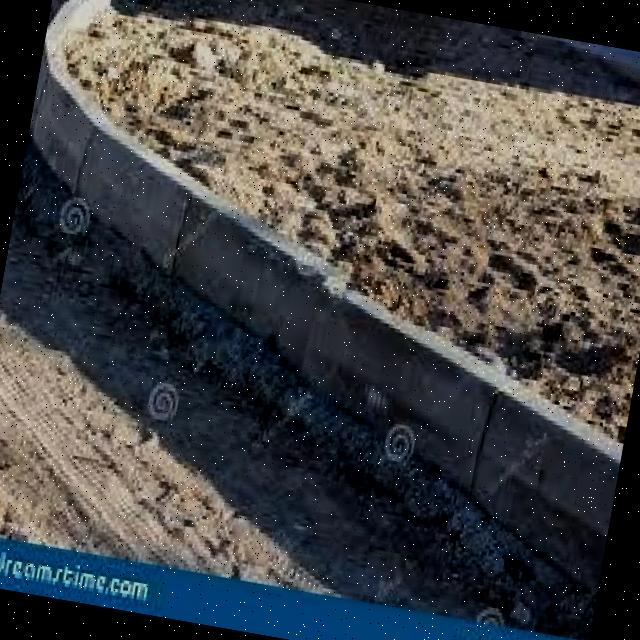curb: (359, 336, 633, 597), (184, 227, 414, 421), (74, 126, 254, 304), (21, 27, 107, 190)
